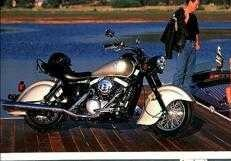motorcycle: (3, 30, 192, 134)
